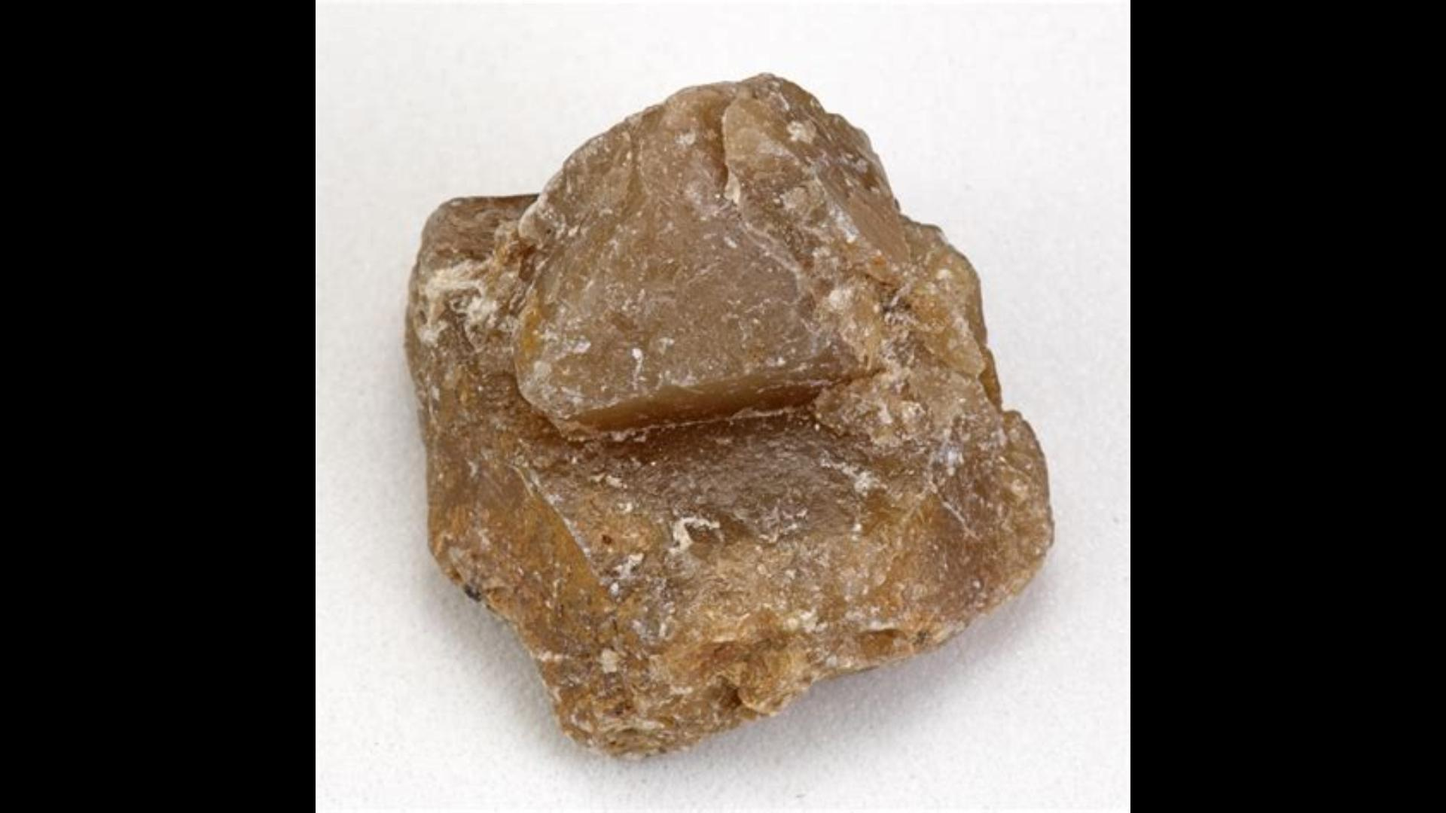rock: (412, 79, 1050, 753)
